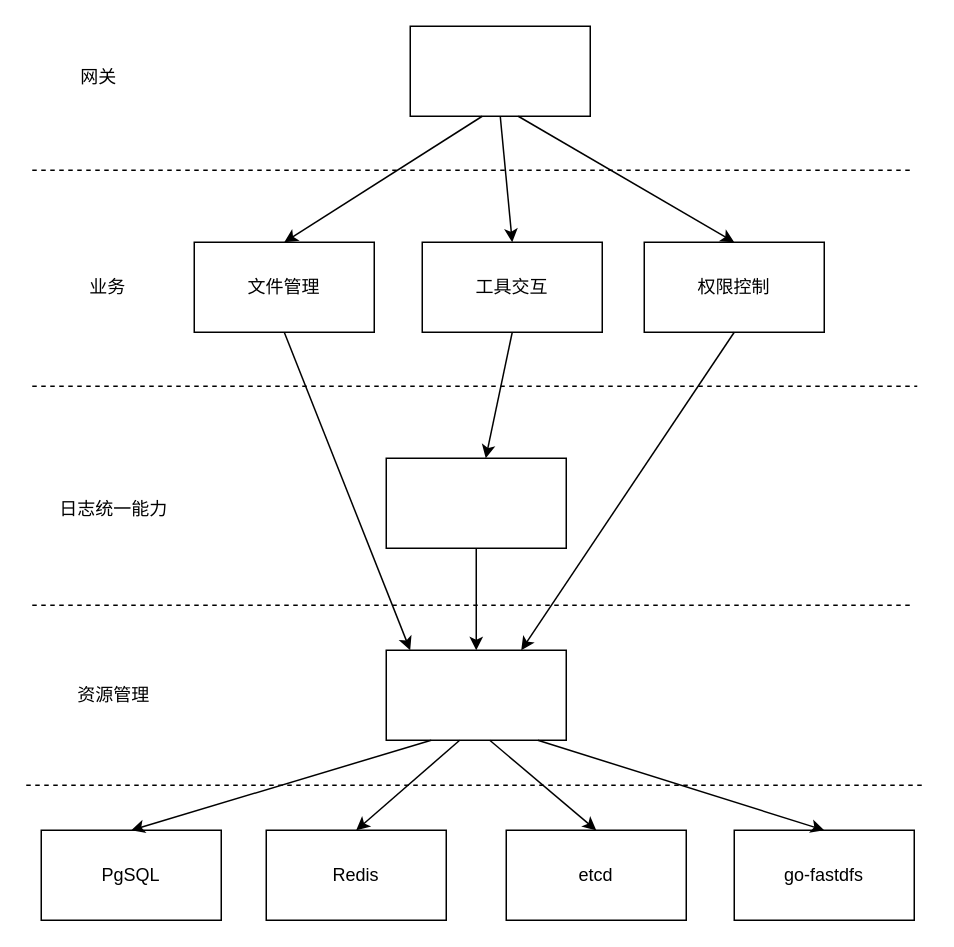
Some shapes in this 954 by 947 pixel diagram are drawn without their labels. The centre of each missing label's shape, as x and y in pixels:
"Proxy" belongs at pixel 499 70.
"resources" belongs at pixel 475 694.
"日志管理" belongs at pixel 475 502.
